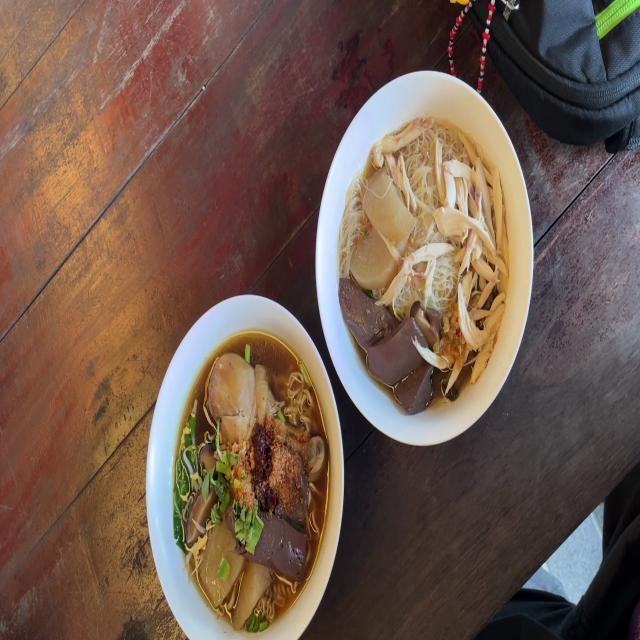noodle: (333, 276, 392, 348), (261, 508, 305, 579), (374, 309, 415, 378), (388, 362, 430, 408)
